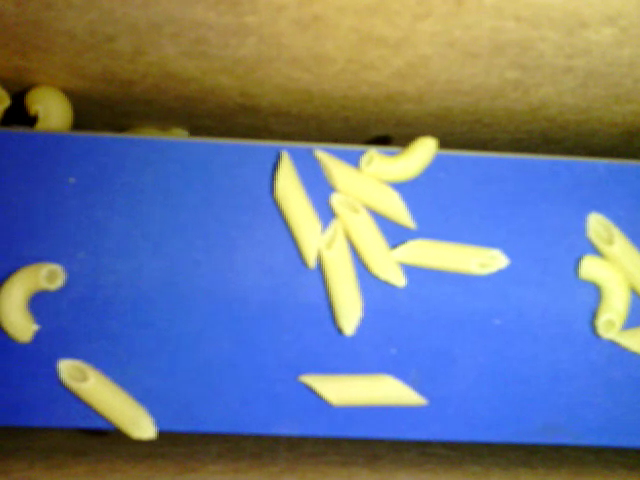elbow: (3, 263, 66, 345), (577, 252, 632, 340), (361, 131, 442, 186)
penne: (56, 355, 161, 442), (316, 151, 420, 233), (327, 190, 407, 290), (272, 149, 323, 273), (317, 213, 365, 340), (390, 235, 511, 281), (296, 368, 430, 406), (585, 211, 637, 290), (614, 327, 639, 359)
shell: (25, 83, 76, 135)
